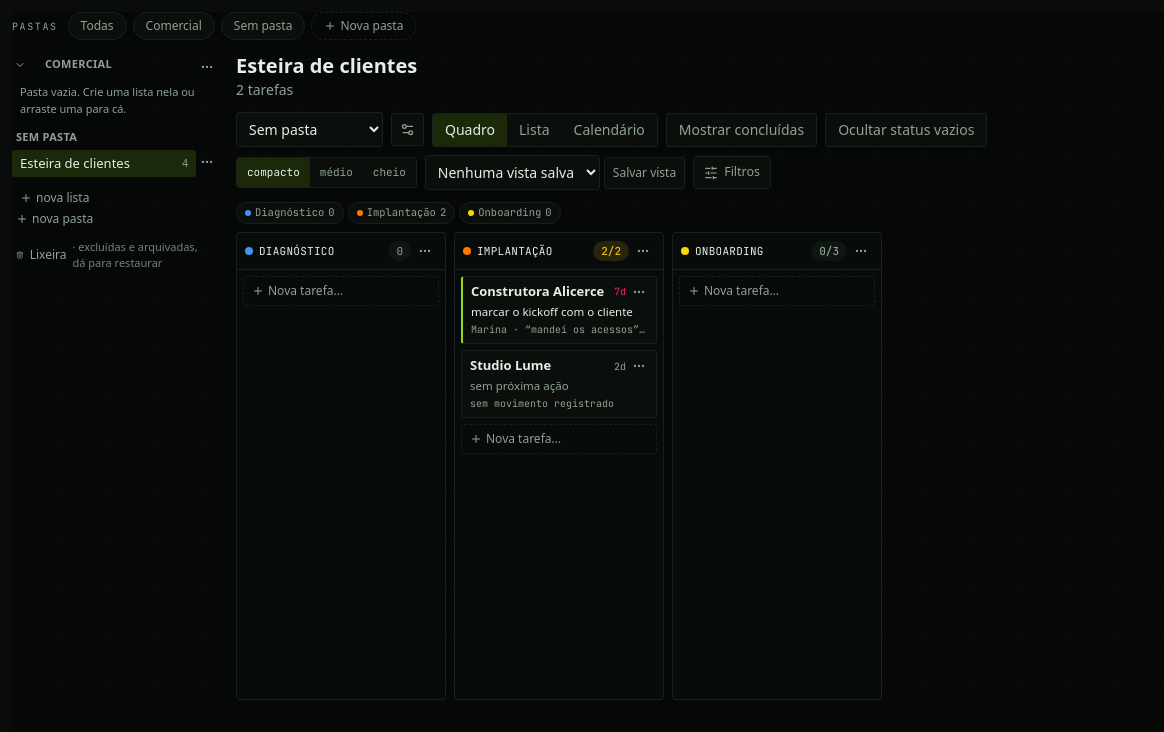
Test: quadro denso na tela › focar mostra o balão com os passos e o último comentário; Esc fecha
This screenshot has width=1164, height=732.
Focus the button "Construtora Alicerce" at (538, 292), box 471,283 -> 604,301
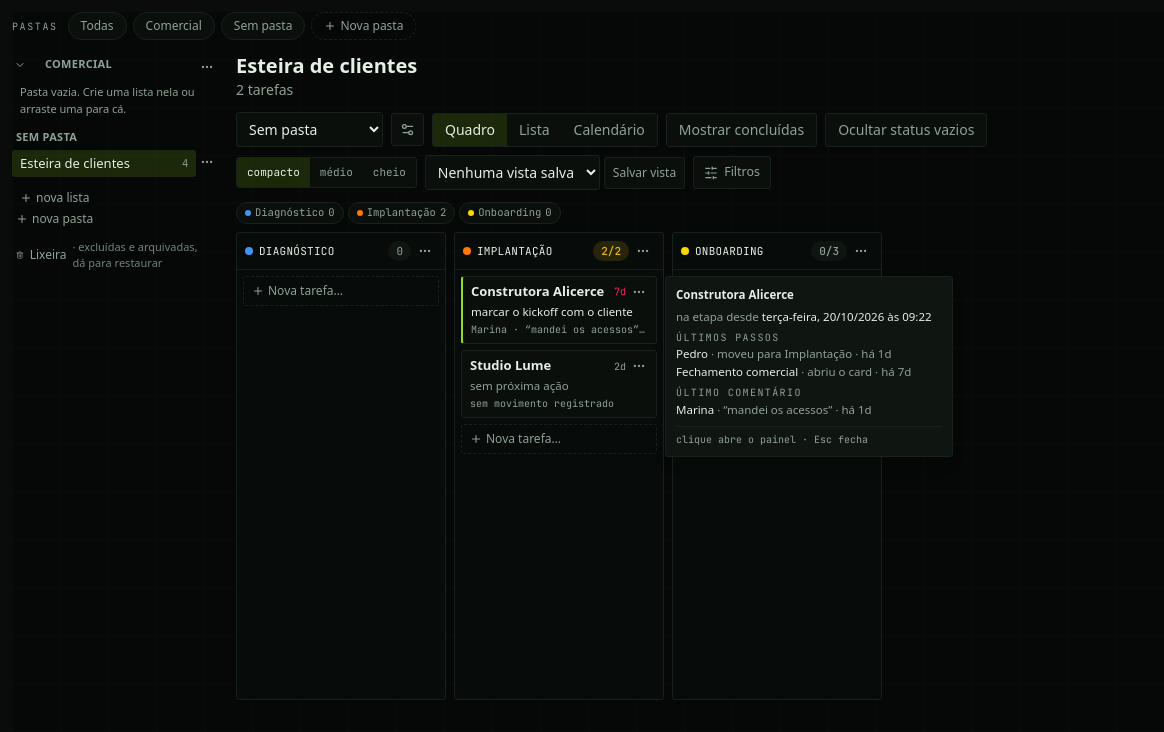
Now the tooltip with test id "trabalho-balao" shows "Pedro · moveu para Implantação", box 665,276 -> 953,457
Now the tooltip with test id "trabalho-balao" shows "Fechamento comercial · abriu o card", box 665,276 -> 953,457
Now the tooltip with test id "trabalho-balao" shows "Marina · “mandei os acessos”", box 665,276 -> 953,457
Press Escape
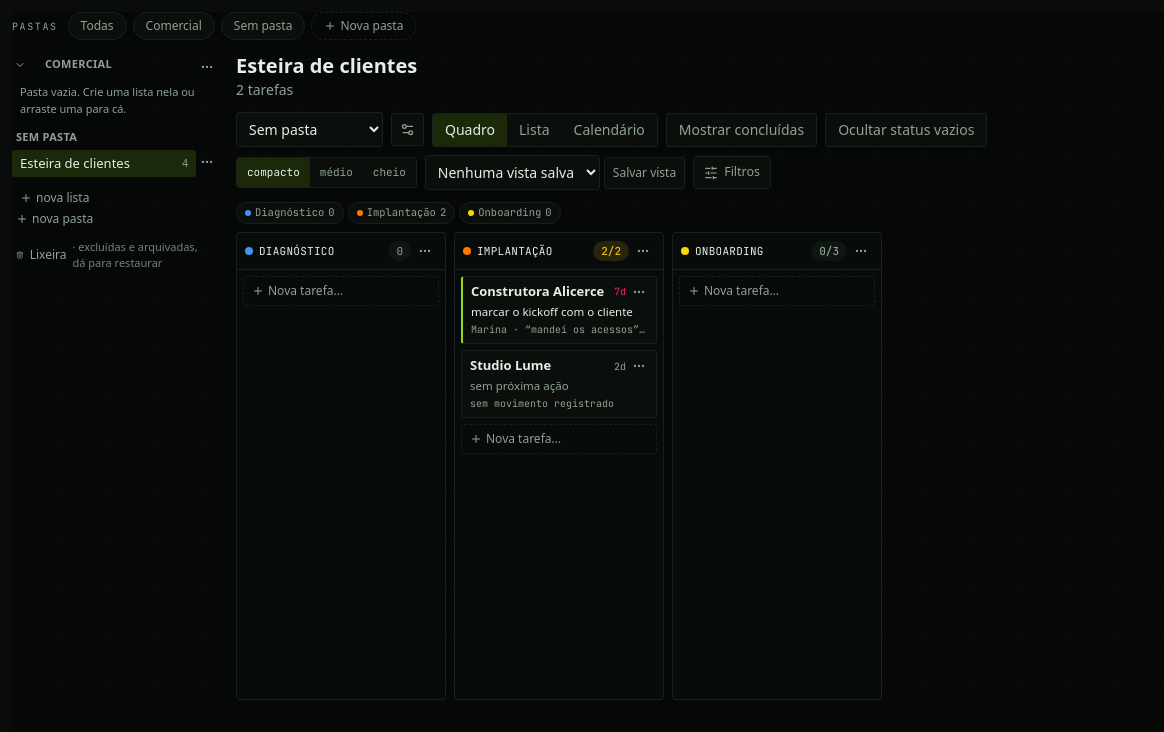
Now the tooltip with test id "trabalho-balao" is gone
